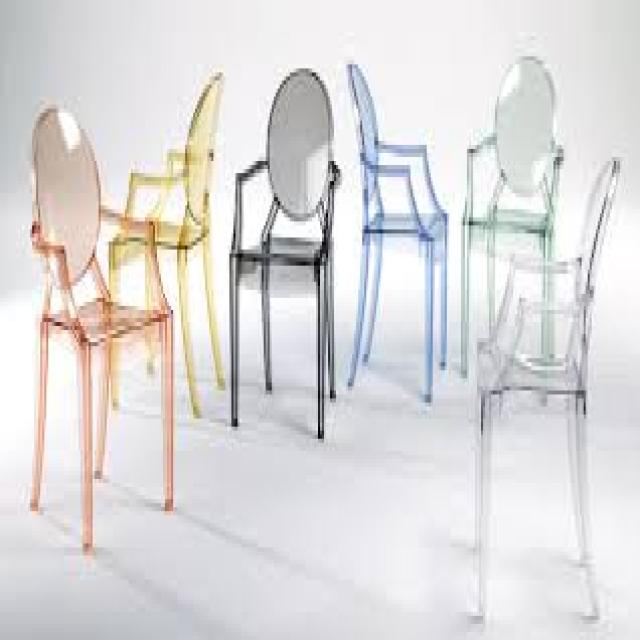chair: (455, 129, 640, 640), (19, 100, 181, 598), (209, 31, 346, 472), (450, 8, 575, 420), (95, 51, 228, 432), (340, 4, 452, 453)
